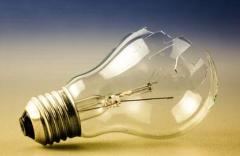lightbulb: (19, 27, 219, 147)
